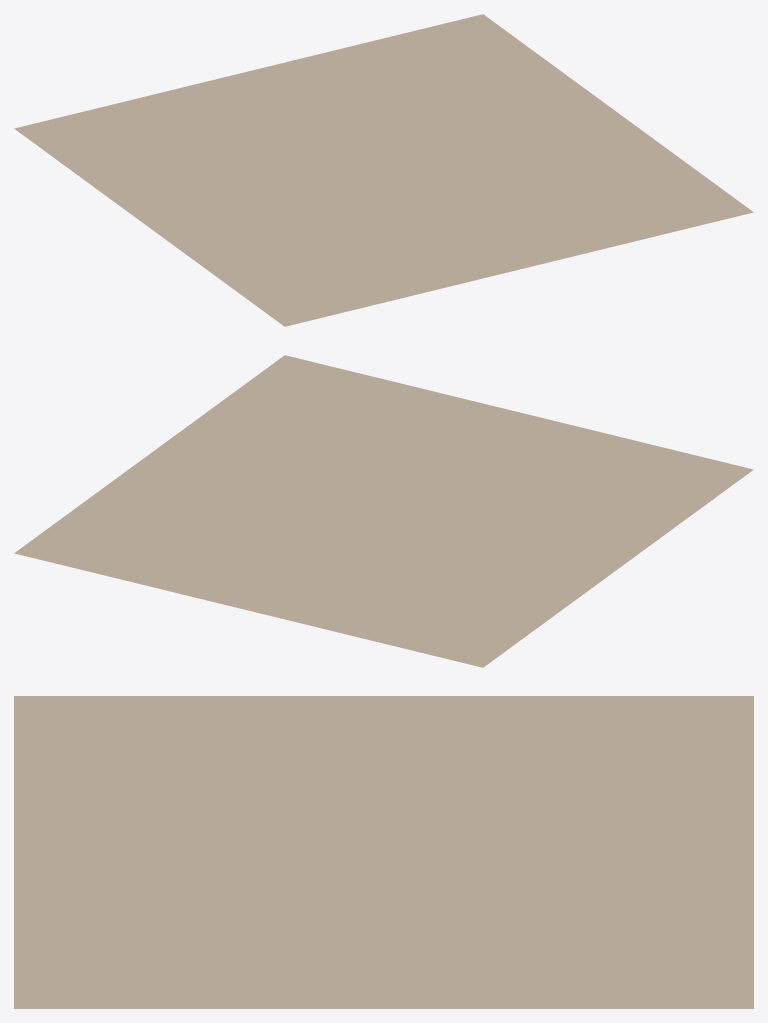
Rendered from SM_Ground_Tile.fbx.
3 renders of one model, top to bottom at view 1: azimuth 30°, elevation 25°; view 2: azimuth 150°, elevation 25°; view 3: azimuth 270°, elevation 25°, orthographic. The views are drawn at different scales.
Visible parts, largest first — view 1: SM_Ground_Tile; view 2: SM_Ground_Tile; view 3: SM_Ground_Tile.
Boxes of the visible parts, x1,y1,x2,y2 form: SM_Ground_Tile: [14, 14, 753, 326]; SM_Ground_Tile: [14, 355, 753, 667]; SM_Ground_Tile: [14, 696, 753, 1008].
Bounding box in the file's own units: 24 × 0 × 24.
